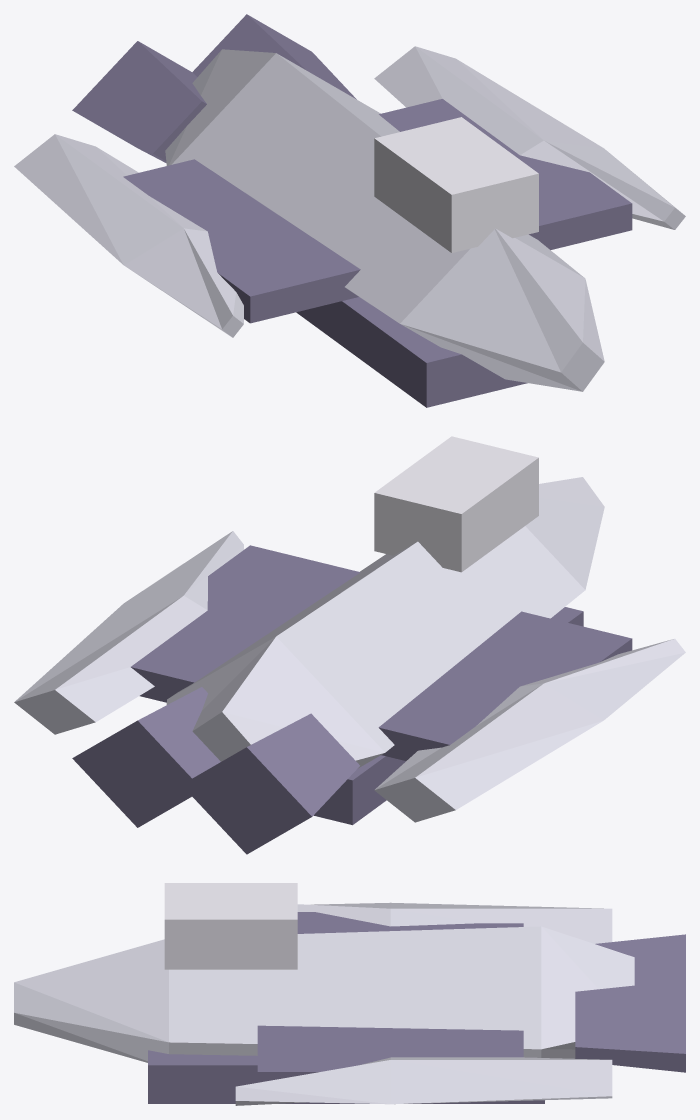
3 views of the same model, one above another, from view 1: azimuth 30°, elevation 25°; view 2: azimuth 150°, elevation 25°; view 3: azimuth 270°, elevation 25° (orthographic). The views are drawn at different scales.
Bounding box in the file's own units: 4.26 × 1.77 × 6.
